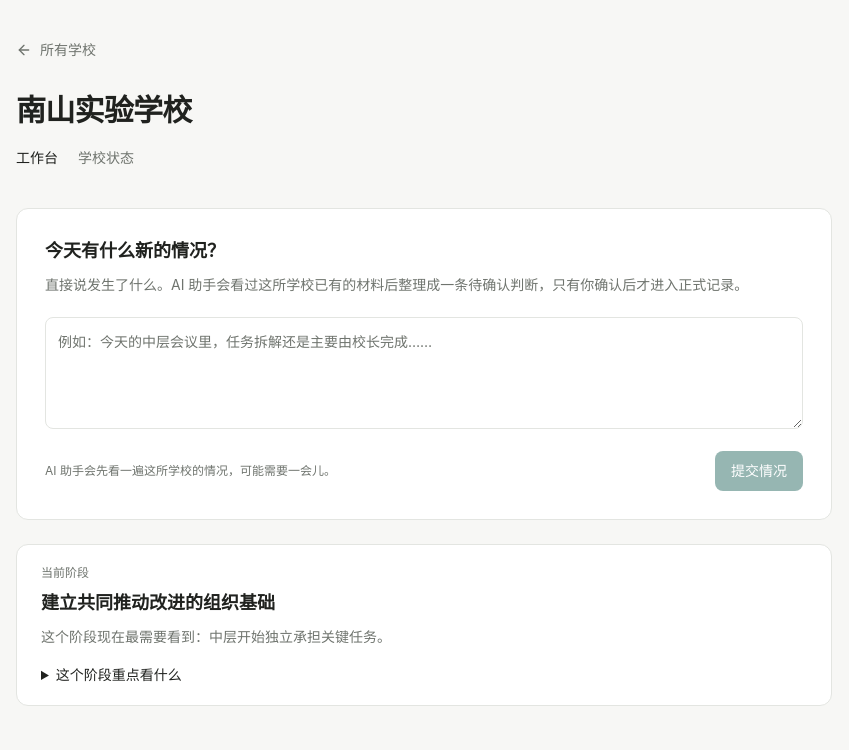
Test: SchoolWorkspacePage › lets the consultant request more evidence without creating an accepted judgment
Expected: the heading "南山实验学校" is shown, [16, 92, 192, 128]
In the text box with placeholder "例如：今天的中层会议里，任务拆解还是主要由校长完成……": x=424, y=373 [45, 317, 803, 429], type "中层会议里仍由校长完成任务拆解。"
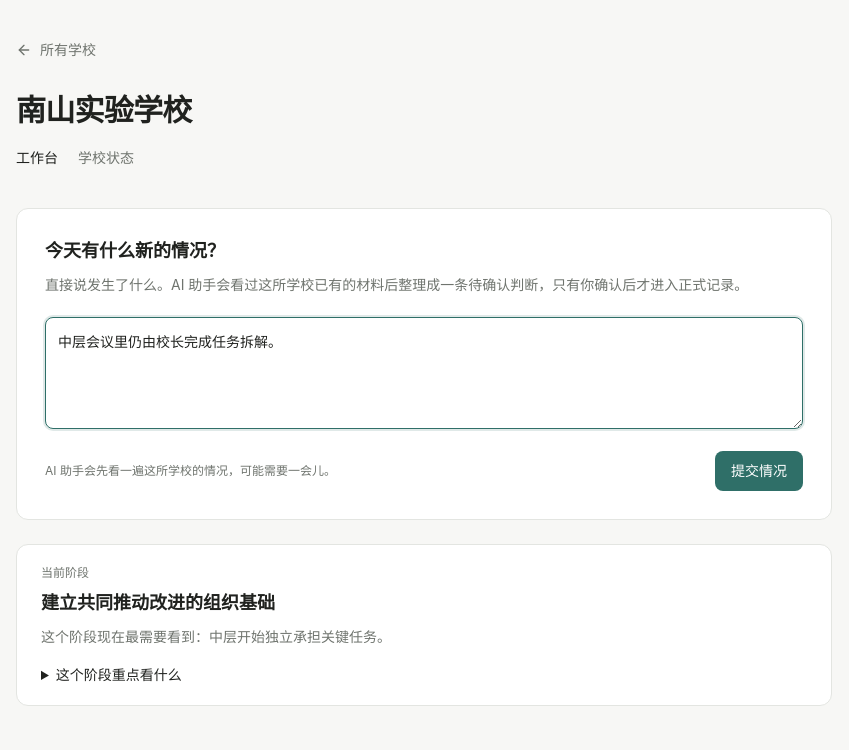
Click the button "提交情况": x=759, y=471 [715, 451, 803, 491]
(page scrolled)
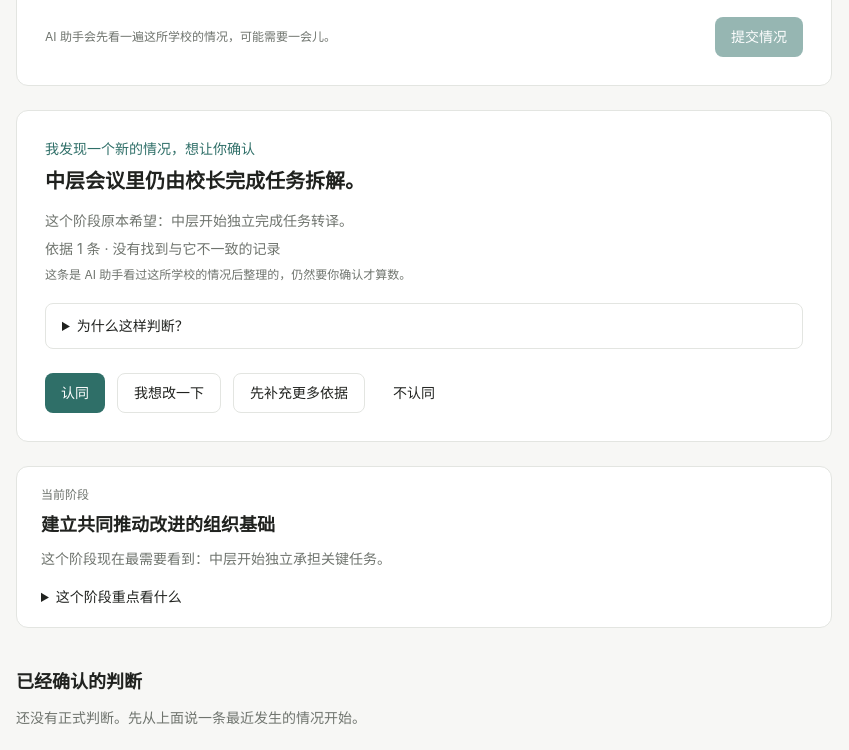
Expected: the text "我发现一个新的情况，想让你确认" is shown, [45, 140, 255, 157]
Click the button "先补充更多依据": x=299, y=393 [233, 373, 365, 413]
(page scrolled)
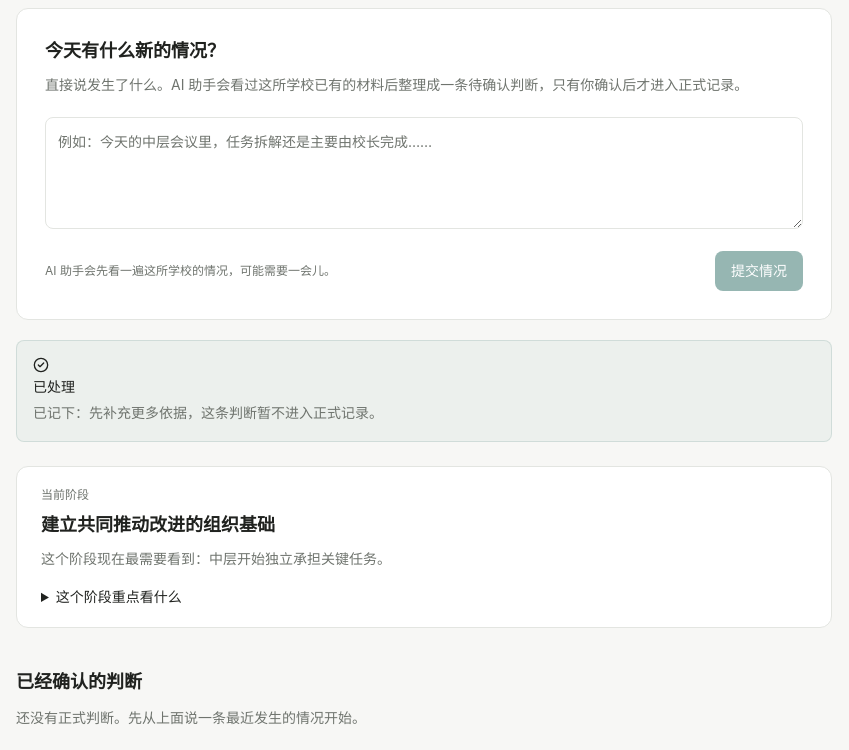
Expected: the text "已记下：先补充更多依据，这条判断暂不进入正式记录。" is shown, [33, 404, 383, 421]
